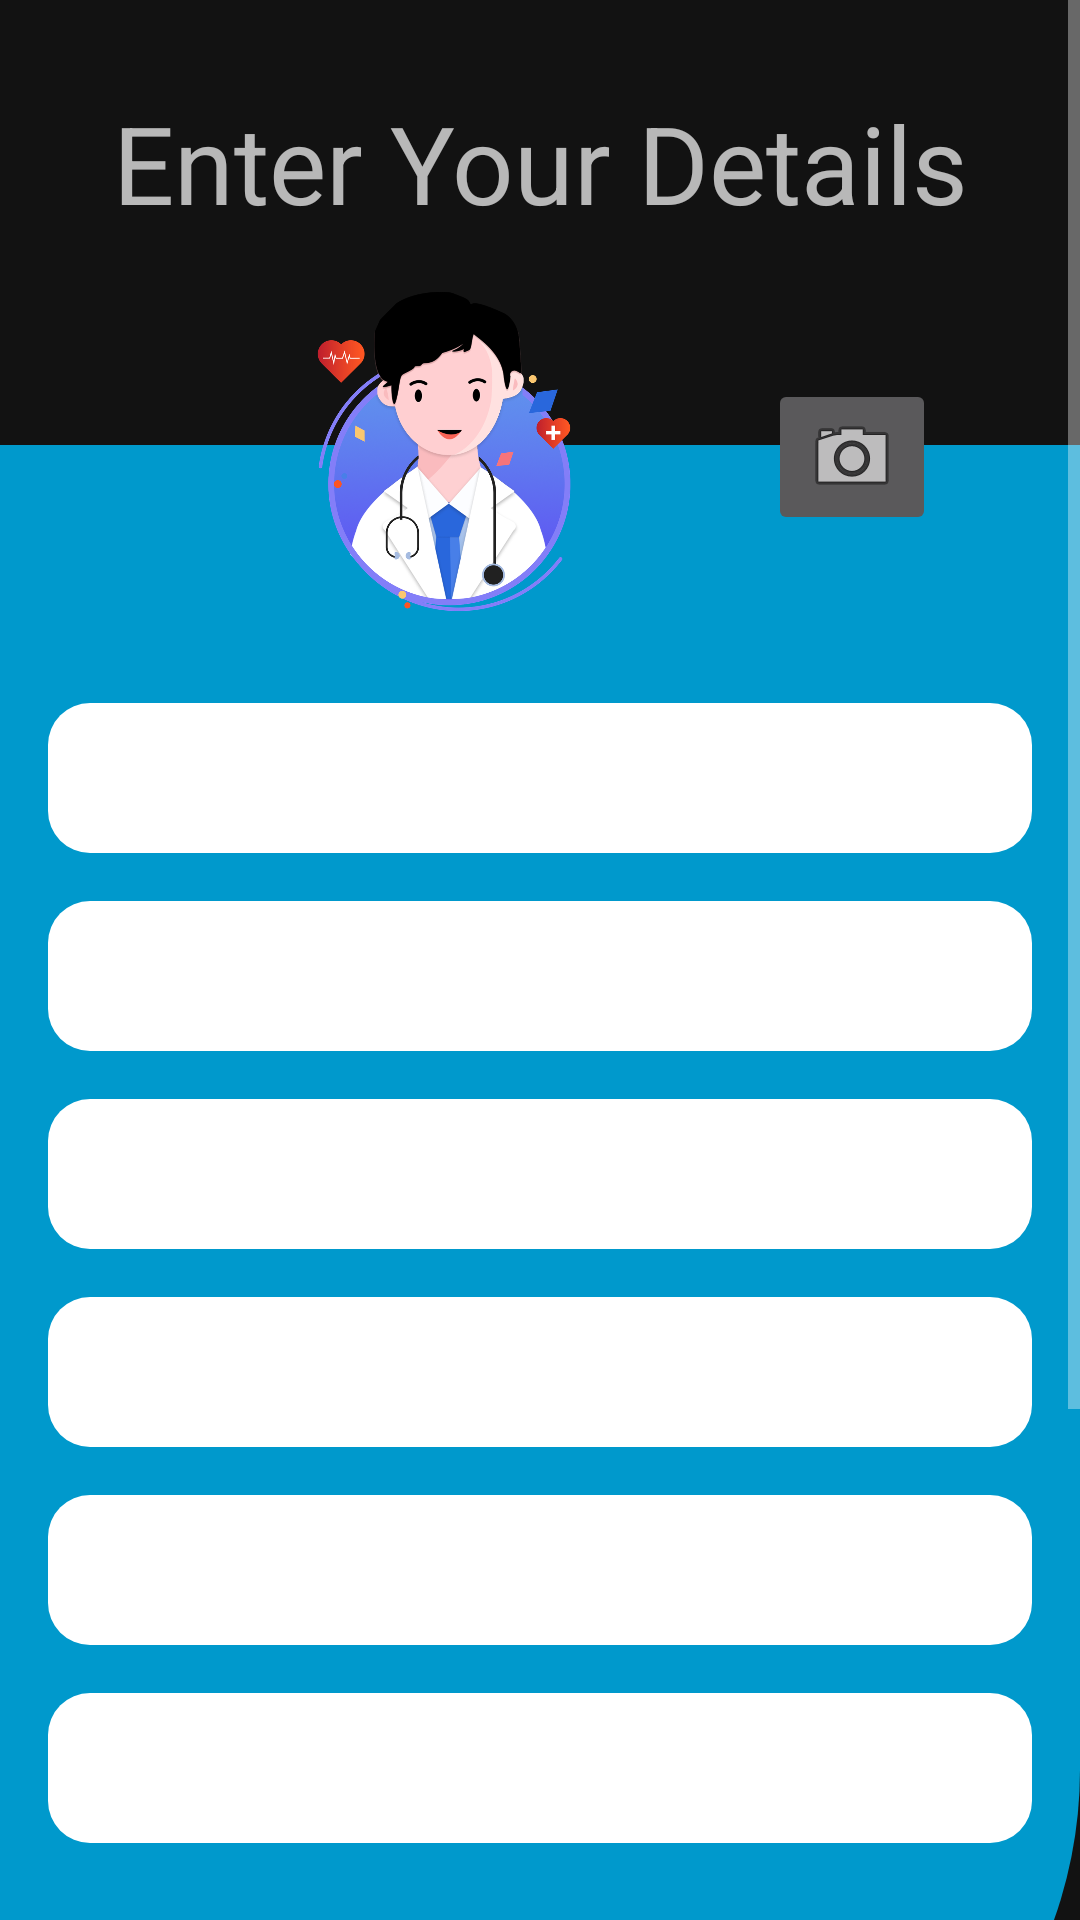

Screen size 1080×1920. Icon name, then its center in pixels as (x=x, y=y):
camera: (x=852, y=457)
